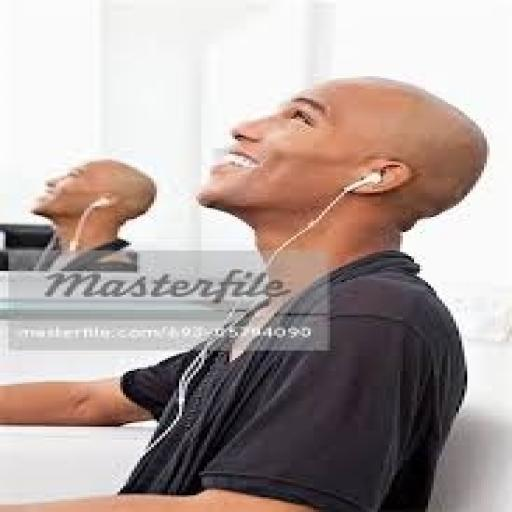listening_to_music: (0, 72, 492, 510)
